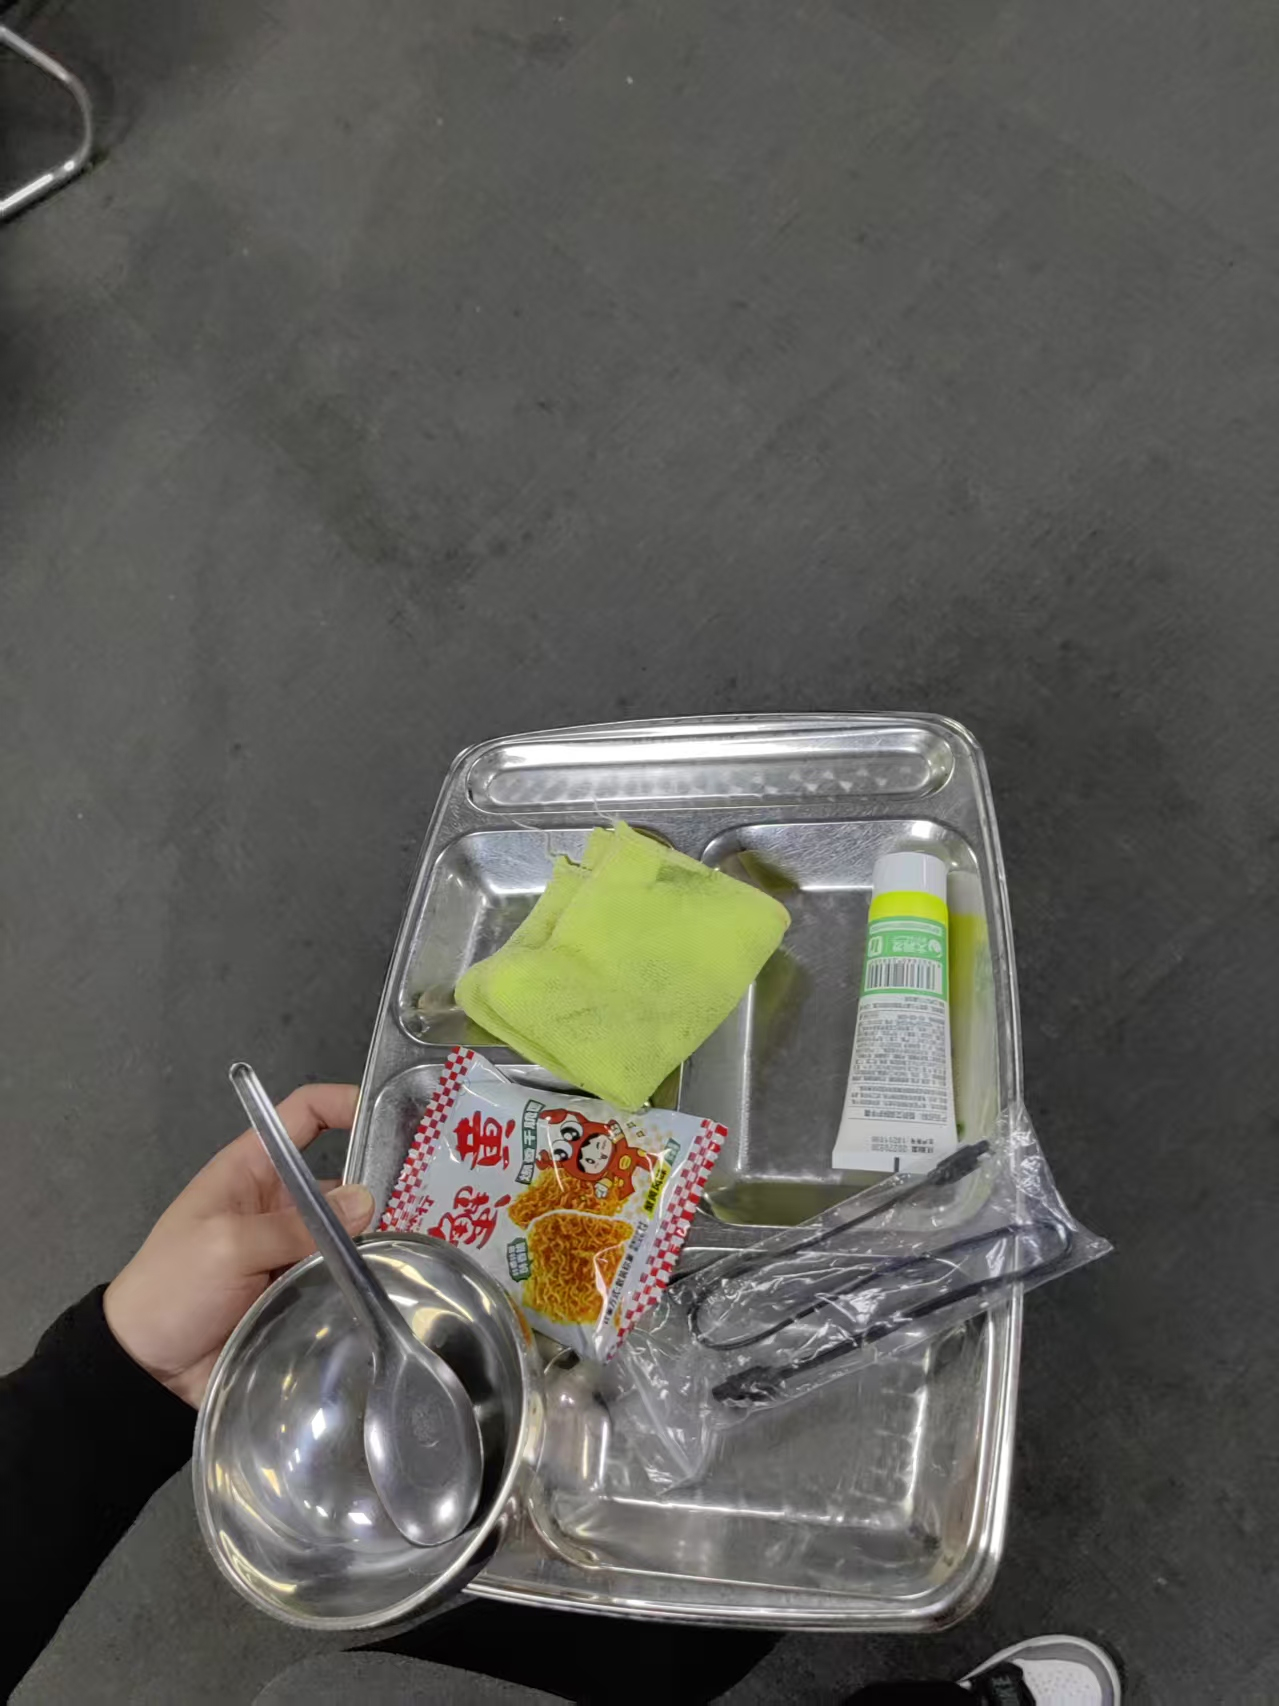plate: (313, 703, 1023, 1631)
severe: (377, 818, 1113, 1452)
